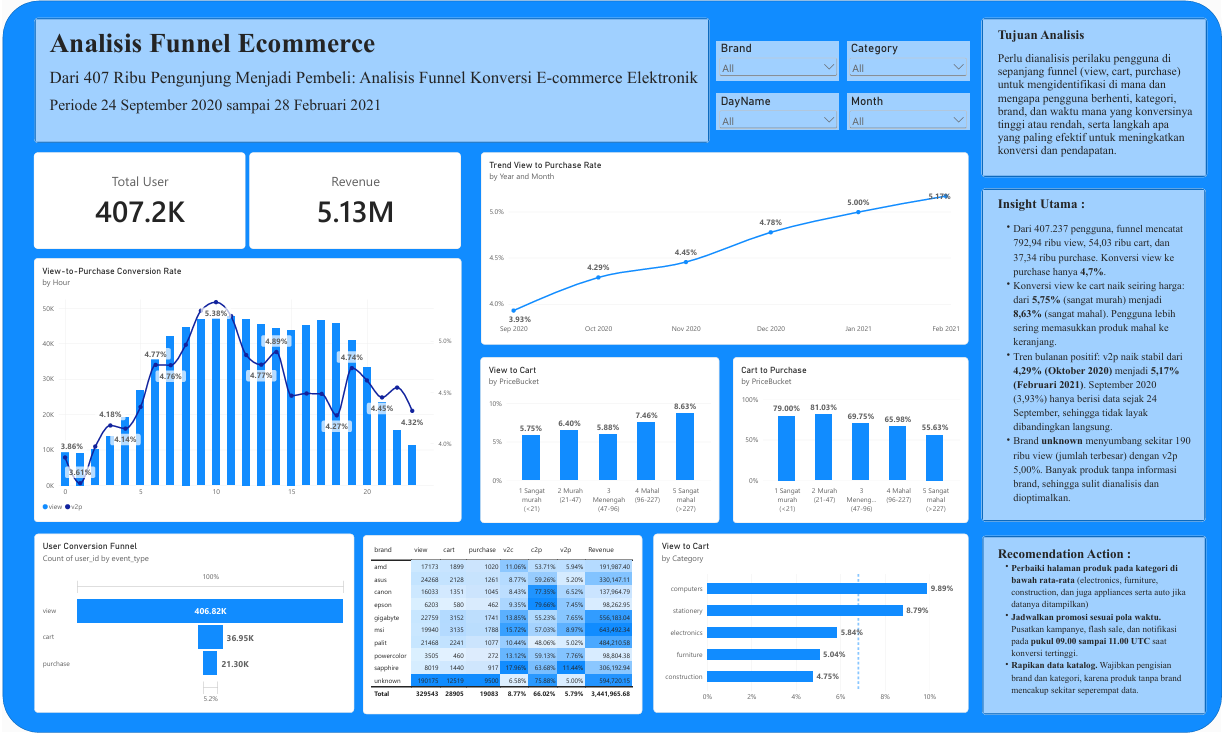

Layout of this report page (visuals, bound fields, positions):
{"tool":"powerbi","page":{"name":"Page 1","canvas":[2500,1500],"ordinal":0},"visuals":[{"type":"shape","box":[0,0,2500.9,1500.5],"z":0},{"type":"funnel","title":"User Conversion Funnel","fields":{"Category":["Events.event_type"],"Y":["Count(Events.user_id)"]},"box":[65.3,1093.3,656,367],"z":1000},{"type":"cardVisual","fields":{"Data":["Count(Events.user_id)","Measure.Price (Purchase)"]},"box":[64.3,310.9,876.4,198.3],"z":2000},{"type":"lineClusteredColumnComboChart","title":"View-to-Purchase Conversion Rate","fields":{"Category":["Events.Hour"],"Y":["Measure.view"],"Y2":["Measure.v2p"]},"box":[64.3,528,876.4,541.4],"z":3000},{"type":"lineChart","title":"Trend View to Purchase Rate","fields":{"Category":["Events.Date.Variation.Date Hierarchy.Year","Events.Date.Variation.Date Hierarchy.Month"],"Y":["Measure.v2p"]},"box":[980.9,310.9,999.7,394],"z":4000},{"type":"clusteredBarChart","title":"View to Cart","fields":{"Category":["Events.cat1"],"Y":["Measure.v2c"]},"box":[1334.6,1093.3,645.9,367],"z":5000},{"type":"tableEx","fields":{"Values":["Events.brand","Measure.view","Measure.cart","Measure.purchase","Measure.v2c","Measure.c2p","Measure.v2p","Measure.Price (Purchase)"]},"box":[738.9,1095.9,573.1,367],"z":6000},{"type":"slicer","fields":{"Values":["Events.brand"]},"box":[1465.3,82.9,251.5,79.6],"z":7000},{"type":"slicer","fields":{"Values":["Events.cat1"]},"box":[1731.7,82.9,251.5,79.6],"z":8000},{"type":"columnChart","title":"View to Cart","fields":{"Category":["Events.PriceBucket"],"Y":["Measure.v2c"]},"box":[980.2,731.4,490.1,339.3],"z":9000},{"type":"shape","box":[2008.2,384.6,460,683.6],"z":10000},{"type":"shape","box":[2008.7,1096.9,460,367],"z":11000},{"type":"textbox","box":[2040.9,402.1,399.6,635.9],"z":12000},{"type":"shape","box":[2008.2,35.2,462.5,326.7],"z":13000},{"type":"textbox","box":[2040.9,55.3,399.6,281.5],"z":14000},{"type":"textbox","box":[2040.9,1118.5,399.6,316.7],"z":15000},{"type":"columnChart","title":"Cart to Purchase","fields":{"Category":["Events.PriceBucket"],"Y":["Measure.c2p"]},"box":[1498,731.4,482.6,339.3],"z":16000},{"type":"slicer","fields":{"Values":["Events.Month"]},"box":[1731.7,191,251.3,75.4],"z":17000},{"type":"slicer","fields":{"Values":["Events.DayName"]},"box":[1465.3,191,251.3,75.4],"z":18000},{"type":"shape","box":[65.3,35.2,1384.9,256.4],"z":19000},{"type":"textbox","box":[95.5,55.3,1337.1,211.1],"z":20000}]}

Visuals, with their boxes in screenshot pixels (x1, y1, x2, y2), scaled from the page's 2500x1500 canvas onto the 1225x733 screenshot:
shape: x1=0, y1=0, x2=1224, y2=732
"User Conversion Funnel" funnel: x1=32, y1=534, x2=353, y2=714
cardVisual - Count(Events.user_id) x Measure.Price (Purchase): x1=32, y1=152, x2=461, y2=249
"View-to-Purchase Conversion Rate" lineClusteredColumnComboChart: x1=32, y1=258, x2=461, y2=523
"Trend View to Purchase Rate" lineChart: x1=481, y1=152, x2=970, y2=344
"View to Cart" clusteredBarChart: x1=654, y1=534, x2=970, y2=714
tableEx - Events.brand x Measure.view: x1=362, y1=536, x2=643, y2=715
slicer - Events.brand: x1=718, y1=41, x2=841, y2=79
slicer - Events.cat1: x1=849, y1=41, x2=972, y2=79
"View to Cart" columnChart: x1=480, y1=357, x2=720, y2=523
shape: x1=984, y1=188, x2=1209, y2=522
shape: x1=984, y1=536, x2=1210, y2=715
textbox: x1=1000, y1=196, x2=1196, y2=507
shape: x1=984, y1=17, x2=1211, y2=177
textbox: x1=1000, y1=27, x2=1196, y2=165
textbox: x1=1000, y1=547, x2=1196, y2=701
"Cart to Purchase" columnChart: x1=734, y1=357, x2=970, y2=523
slicer - Events.Month: x1=849, y1=93, x2=972, y2=130
slicer - Events.DayName: x1=718, y1=93, x2=841, y2=130
shape: x1=32, y1=17, x2=711, y2=142
textbox: x1=47, y1=27, x2=702, y2=130
